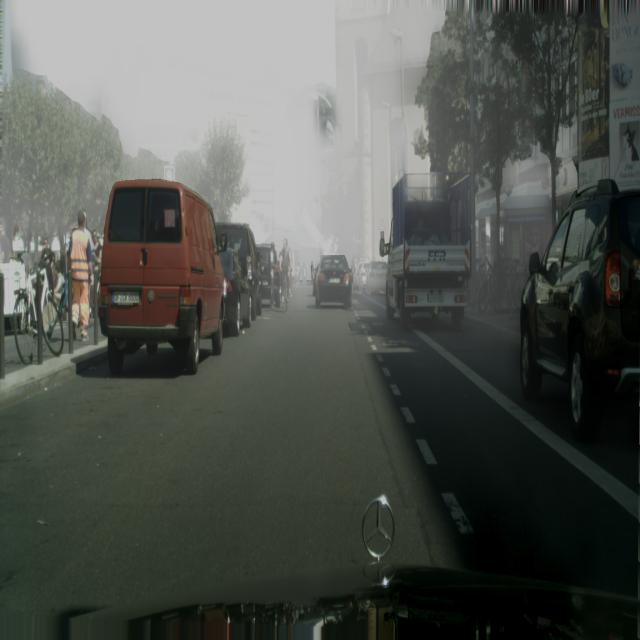car: (13, 256, 66, 365), (279, 238, 293, 314)
person: (69, 211, 94, 344)
rider: (384, 171, 471, 332)
truck: (519, 179, 640, 441), (98, 179, 226, 377), (216, 223, 263, 324), (218, 243, 248, 336), (313, 253, 352, 309), (257, 243, 280, 311), (365, 259, 388, 294), (355, 258, 371, 289)
